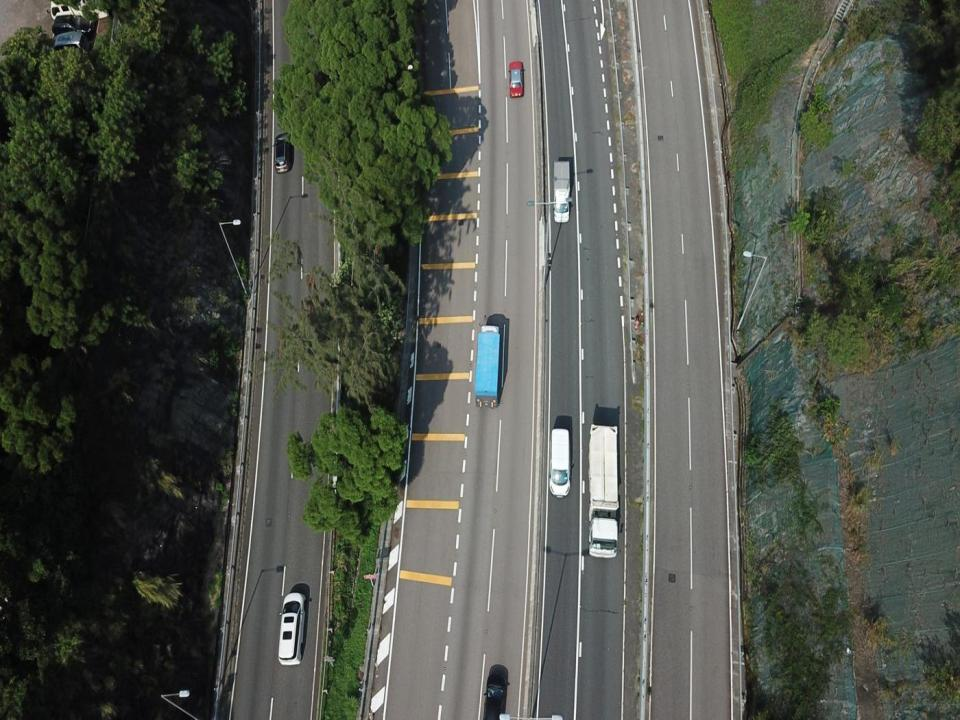car: (278, 592, 307, 666), (483, 673, 507, 719), (50, 14, 94, 38), (273, 132, 292, 174), (507, 61, 524, 98)
truck: (588, 424, 618, 558), (474, 322, 504, 409), (50, 0, 108, 23), (552, 160, 570, 223)
van: (549, 427, 572, 499), (47, 31, 90, 57)
